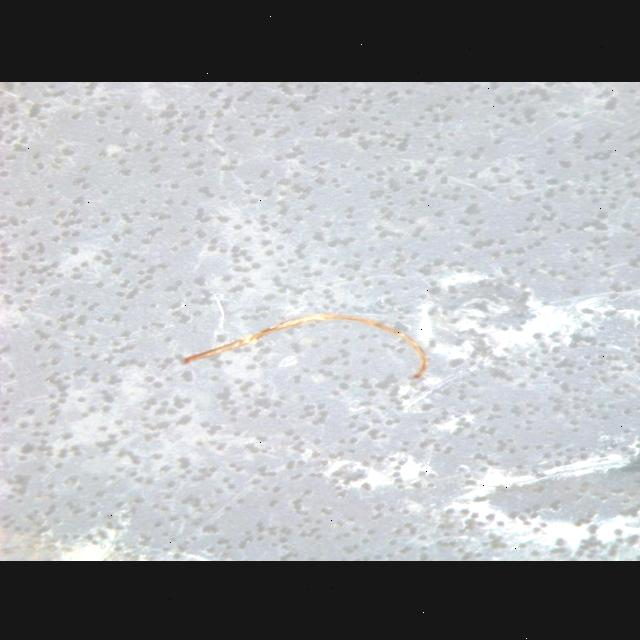Fibre: (176, 310, 430, 390)
